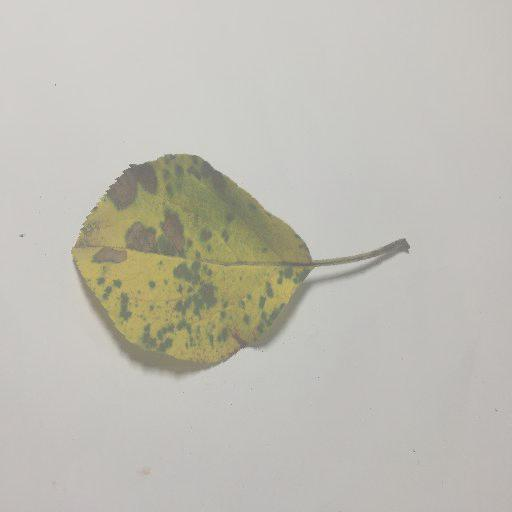Brown_Spot: (208, 324, 260, 355), (164, 220, 189, 254), (135, 170, 164, 193), (125, 229, 154, 249), (114, 179, 136, 205), (193, 282, 216, 301), (89, 252, 127, 260), (202, 230, 214, 237)
